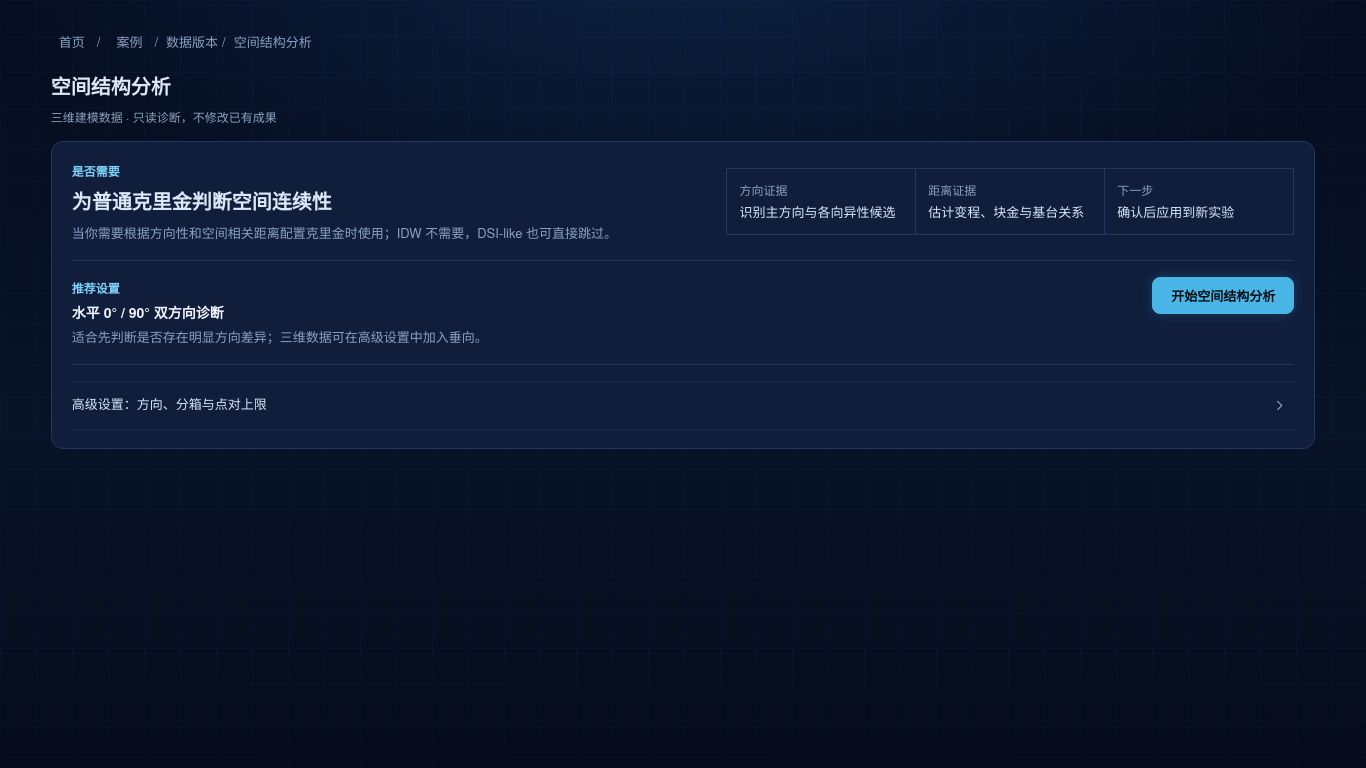
Scenario: 诊断运行与证据展示 › 各向异性候选展示「诊断建议，需人工确认」标签与候选证据
Click the button with test id "start-diagnosis".
click(1223, 295)  # box [1152,277,1294,314]
Wait 2000 ms
(page scrolled)
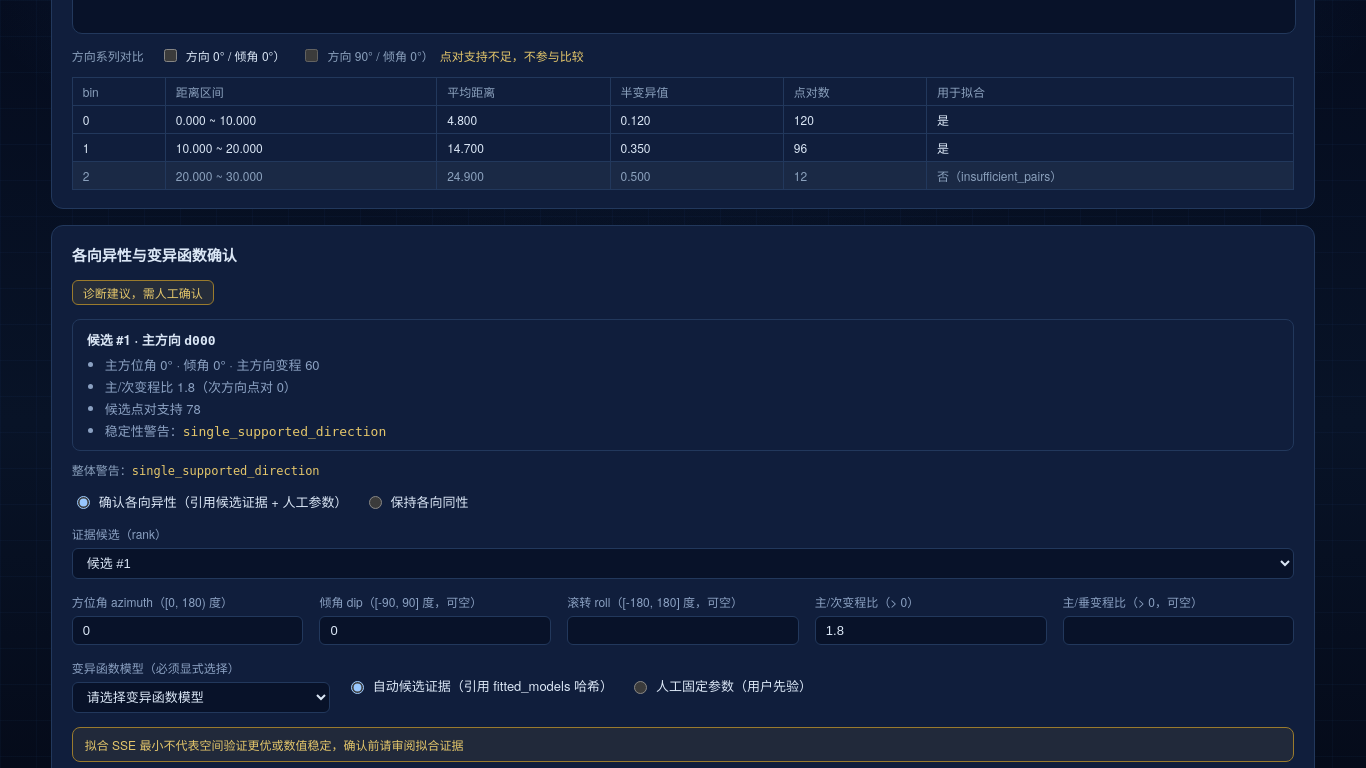
Check: the text with test id "suggestion-label" reads "诊断建议，需人工确认", box [83,284,203,301]
Check: the element with test id "candidate-evidence" shows "1", box [87,330,184,349]
Check: the element with test id "candidate-evidence" shows "1.8", box [105,377,297,396]
